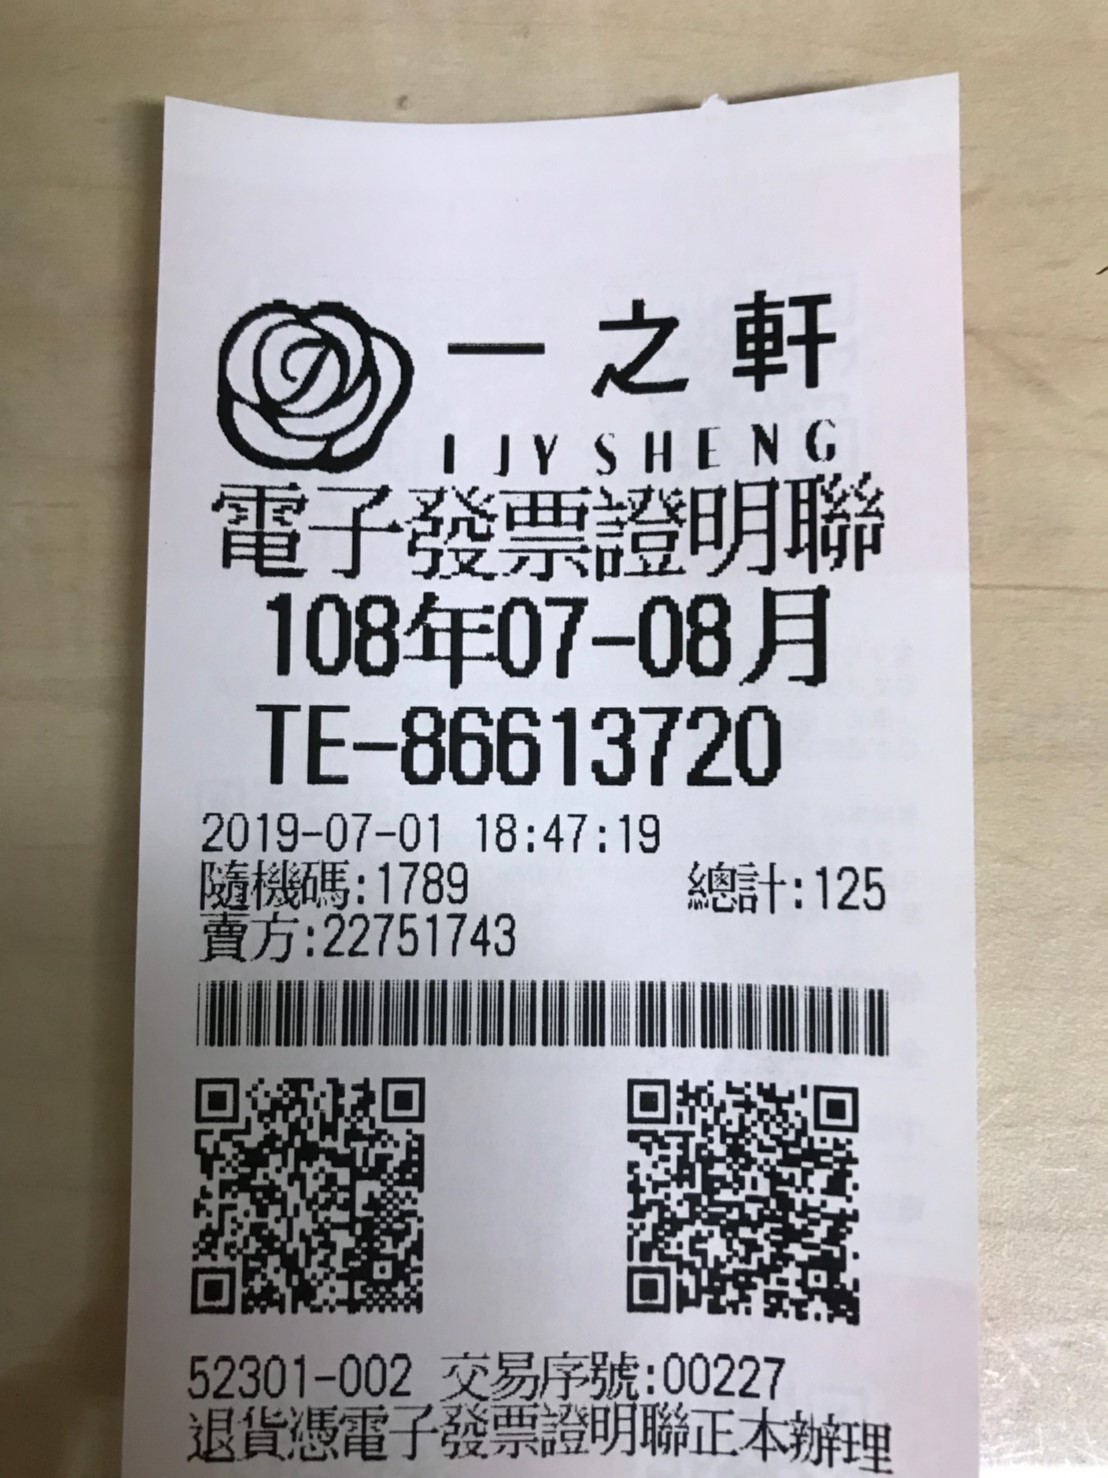Date_New: (265, 585, 834, 690)
Number_New: (399, 701, 783, 788)
